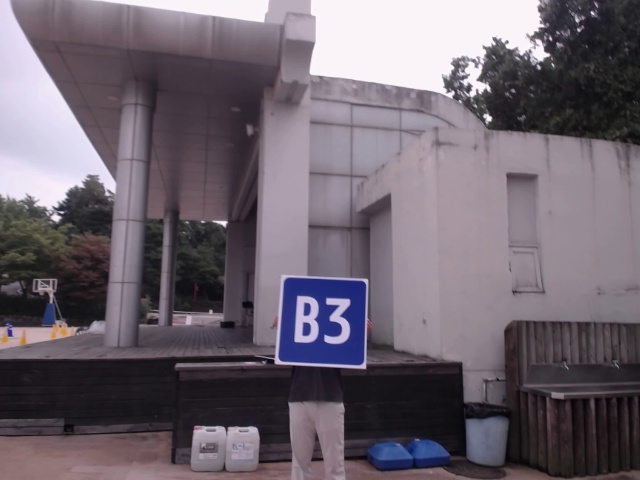delivery_b3: (280, 278, 366, 368)
